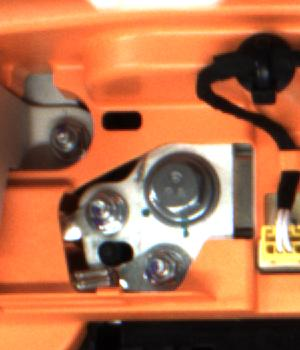nut_b: (139, 150, 218, 231)
screw_s: (143, 246, 186, 288), (85, 189, 121, 228), (49, 121, 80, 155)
